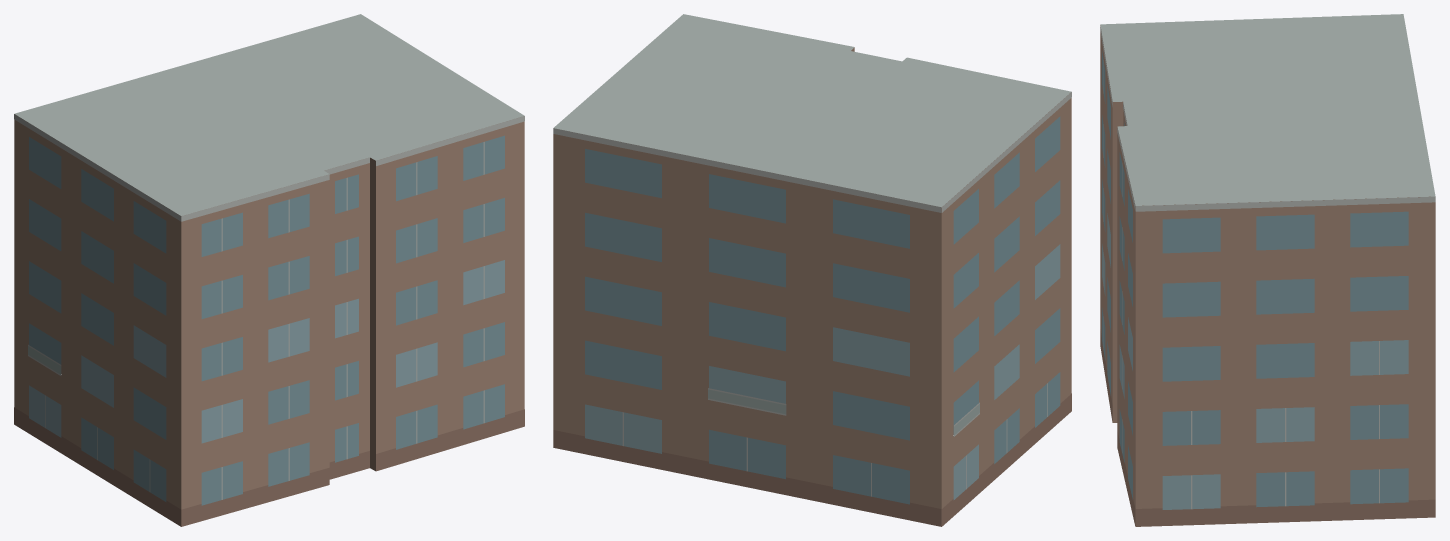
File: survey-upis-32723101.glb
The picture shows the model from 3 angles, left to right: view 1: azimuth 30°, elevation 25°; view 2: azimuth 150°, elevation 25°; view 3: azimuth 270°, elevation 25°; orthographic projection. The views are drawn at different scales.
Visible parts, largest first — view 1: survey-upis-32723101.tmp; view 2: survey-upis-32723101.tmp; view 3: survey-upis-32723101.tmp.
Part boxes in pixels (x1=…): survey-upis-32723101.tmp: x1=14, y1=14, x2=524, y2=526; survey-upis-32723101.tmp: x1=553, y1=14, x2=1071, y2=526; survey-upis-32723101.tmp: x1=1100, y1=14, x2=1435, y2=526.
Size of the model in its own units: 17.33 by 13.5 by 12.79.
